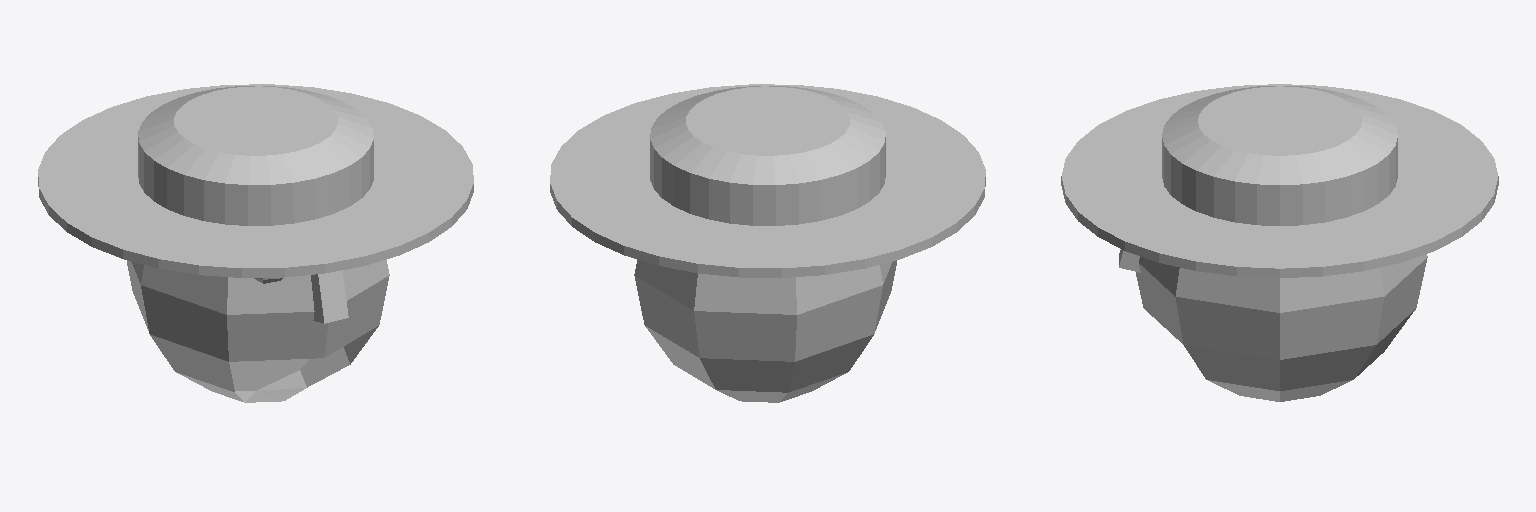
The model's file is Head1.obj.
3 renders of one model, left to right at view 1: azimuth 30°, elevation 25°; view 2: azimuth 150°, elevation 25°; view 3: azimuth 270°, elevation 25°, orthographic.
Parts seen in each view (by area): view 1: Cylinder_Cylinder.001, Sphere_Sphere.001, Cube_Cube.001; view 2: Cylinder_Cylinder.001, Sphere_Sphere.001; view 3: Cylinder_Cylinder.001, Sphere_Sphere.001.
Boxes of the visible parts, x1,y1,x2,y2 form: Cylinder_Cylinder.001: [38, 84, 473, 277]; Sphere_Sphere.001: [127, 259, 389, 402]; Cube_Cube.001: [311, 270, 348, 323]; Cylinder_Cylinder.001: [550, 84, 985, 277]; Sphere_Sphere.001: [634, 259, 896, 402]; Cylinder_Cylinder.001: [1061, 84, 1498, 277]; Sphere_Sphere.001: [1136, 254, 1427, 401].
Bounding box in the file's own units: 2.96 × 2.01 × 2.96.